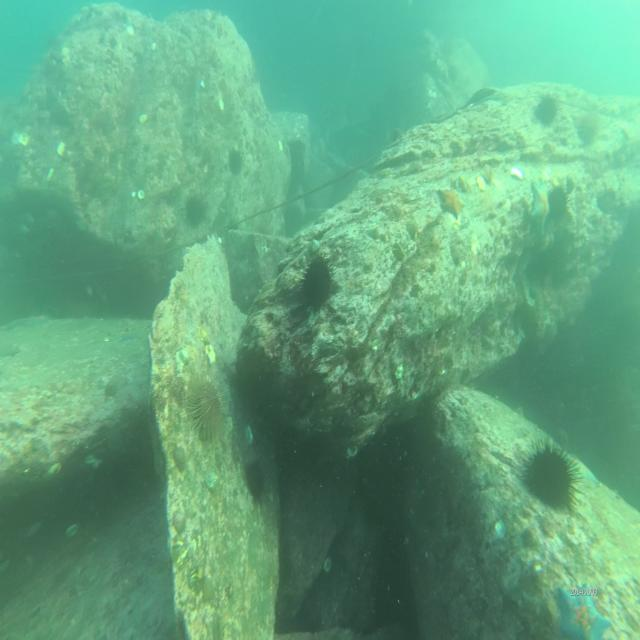echinus: (523, 433, 581, 520), (187, 374, 223, 442), (300, 251, 335, 309), (243, 457, 266, 504), (182, 193, 205, 230), (538, 90, 559, 123), (576, 108, 596, 138), (550, 183, 566, 216), (228, 145, 244, 177)
starfish: (555, 577, 614, 640), (530, 177, 552, 232), (439, 185, 466, 221)
